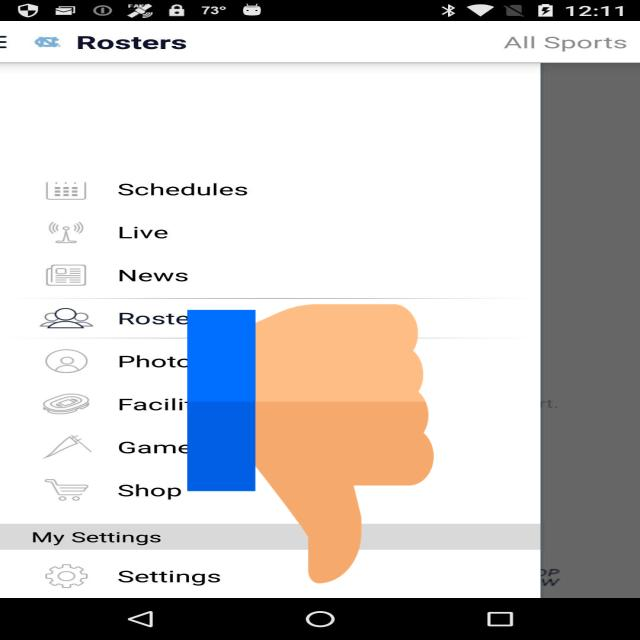obstruction: (187, 298, 434, 590)
